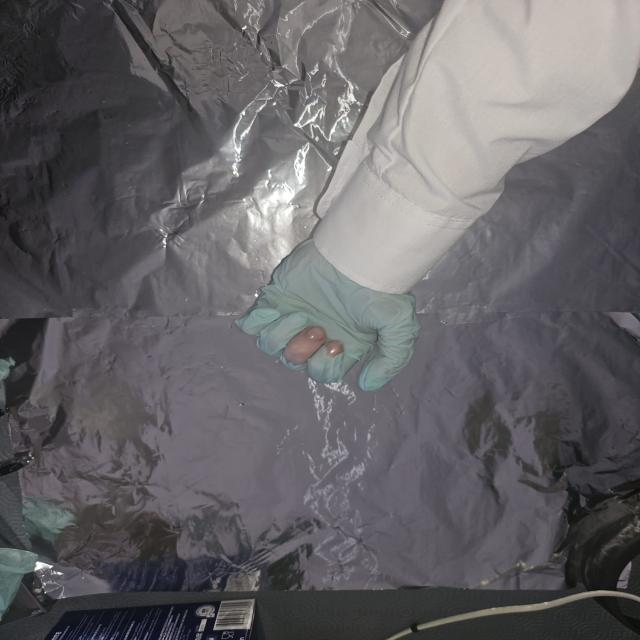gloves_damaged: (230, 233, 422, 394)
